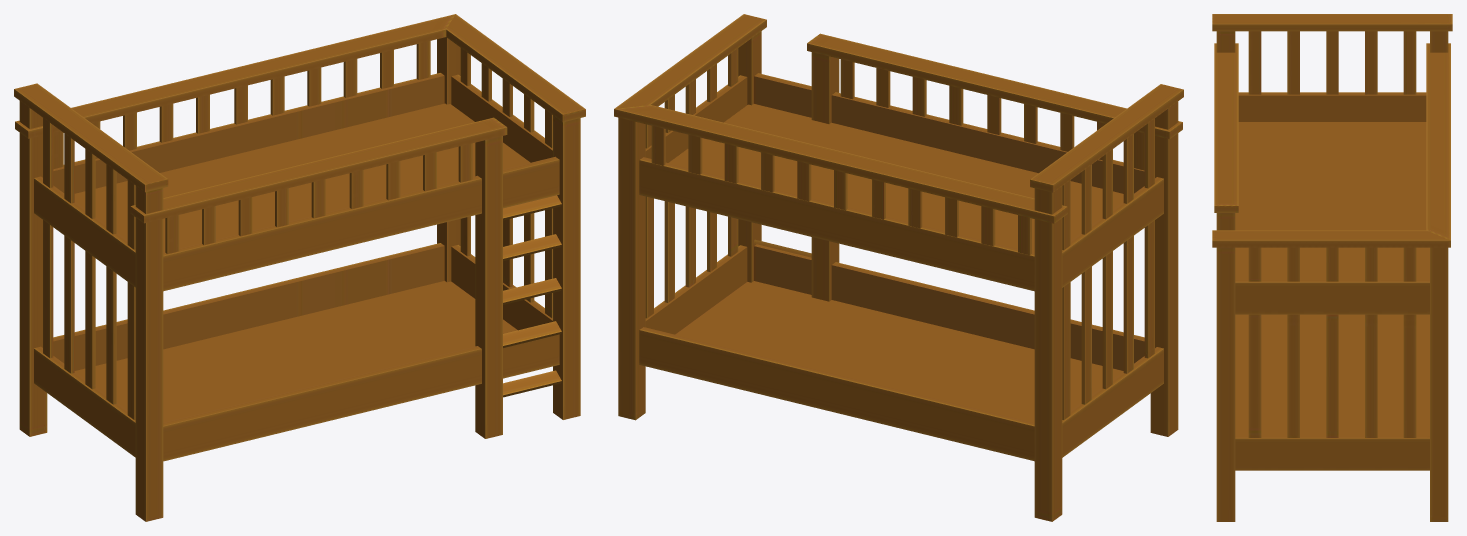
File: BunkBedFrame.fbx
3 renders of one model, left to right at view 1: azimuth 30°, elevation 25°; view 2: azimuth 150°, elevation 25°; view 3: azimuth 270°, elevation 25°, orthographic. The views are drawn at different scales.
Visible parts, largest first — view 1: BunkBedFrame; view 2: BunkBedFrame; view 3: BunkBedFrame.
Boxes of the visible parts, box(x1,y1,x2,y2) form: BunkBedFrame: box(14, 14, 585, 521); BunkBedFrame: box(614, 14, 1183, 521); BunkBedFrame: box(1212, 14, 1452, 521).
Bounding box in the file's own units: 201 × 104 × 148.
